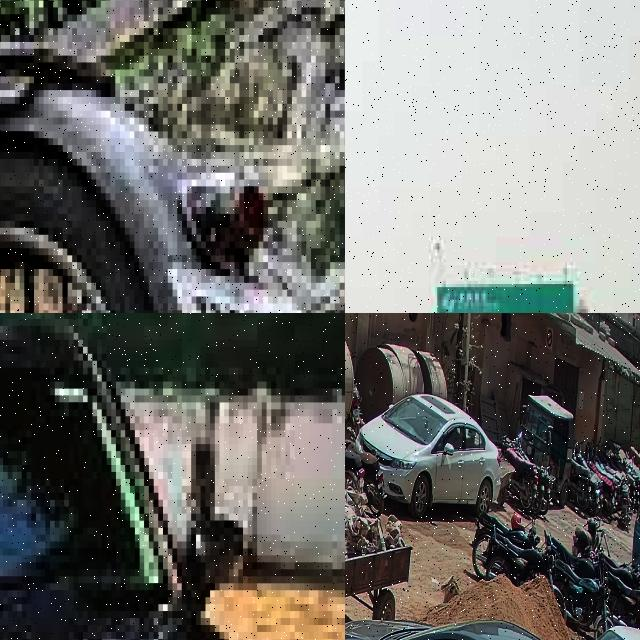bike: (0, 35, 316, 313), (470, 508, 536, 579), (554, 553, 611, 634), (482, 524, 554, 588), (345, 413, 387, 516), (549, 532, 604, 585), (502, 435, 538, 513), (607, 571, 640, 627), (345, 406, 364, 495), (600, 551, 640, 591), (572, 517, 604, 559), (570, 459, 591, 511)
car: (0, 313, 304, 640), (356, 393, 500, 518)
